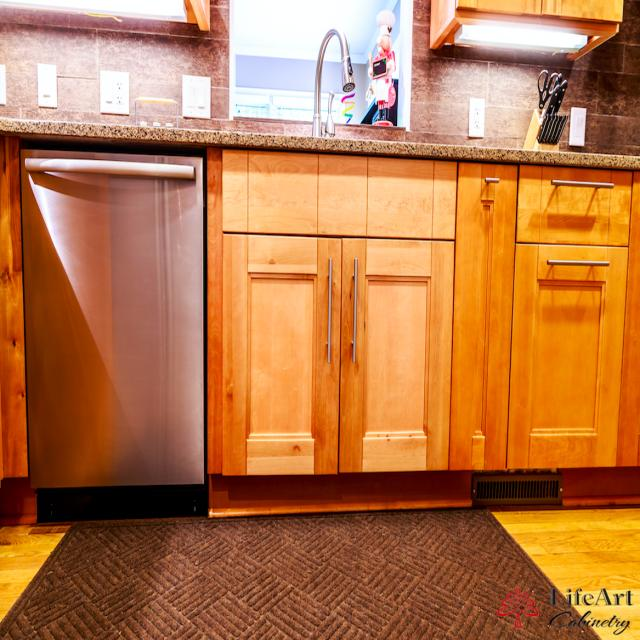dishwasher: (16, 137, 218, 519)
